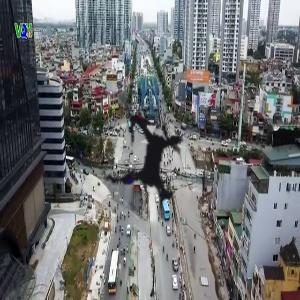drone: (50, 59, 246, 255)
